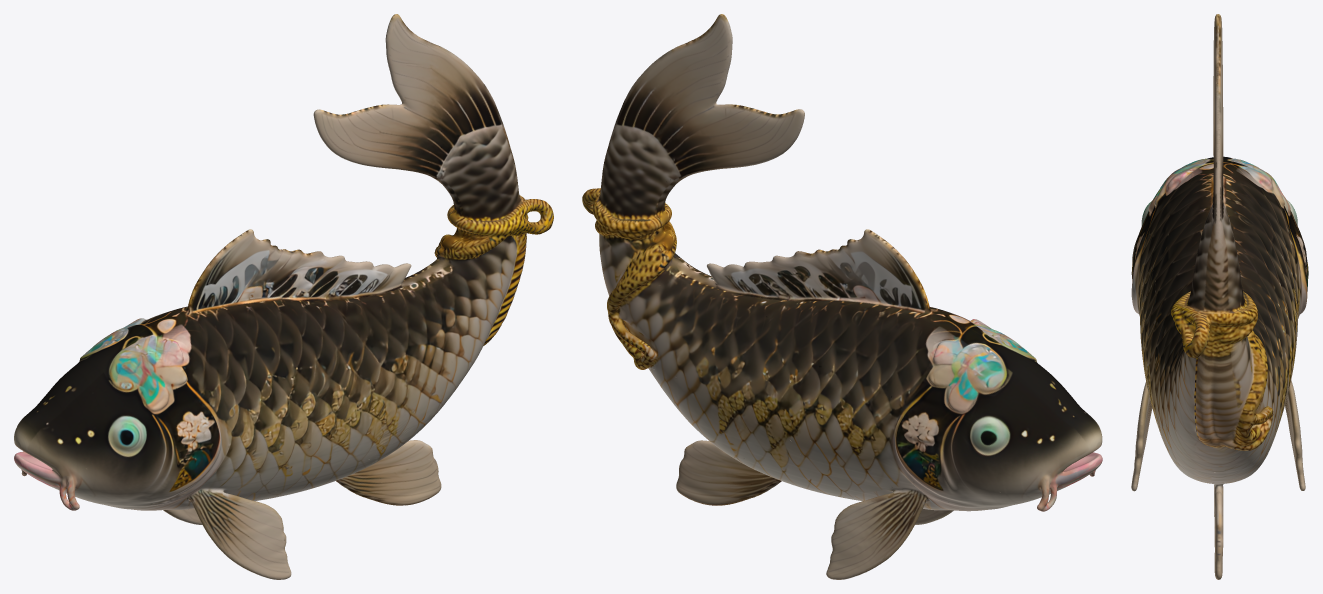
The model's file is 3d_demo_2.glb.
3 renders of one model, left to right at view 1: azimuth 30°, elevation 25°; view 2: azimuth 150°, elevation 25°; view 3: azimuth 270°, elevation 25°, orthographic. The views are drawn at different scales.
Parts seen in each view (by area): view 1: texture_v128_online.001; view 2: texture_v128_online.001; view 3: texture_v128_online.001.
Boxes of the visible parts, x1,y1,x2,y2 form: texture_v128_online.001: (14,14,553,579); texture_v128_online.001: (582,14,1102,579); texture_v128_online.001: (1131,14,1308,579).
Bounding box in the file's own units: 2 × 1.82 × 0.526.
1 material, 1 textured.
